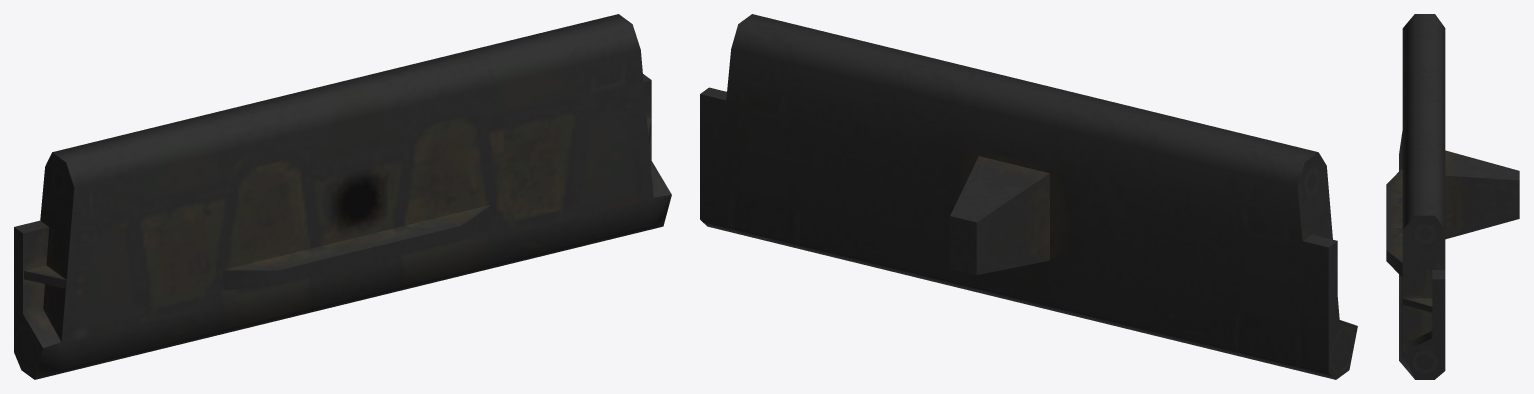
3 views of the same model, side by side, from view 1: azimuth 30°, elevation 25°; view 2: azimuth 150°, elevation 25°; view 3: azimuth 270°, elevation 25° (orthographic). The views are drawn at different scales.
Visible parts, largest first — view 1: set_0_group_0; view 2: set_0_group_0; view 3: set_0_group_0.
Boxes of the visible parts, bbox=[...] form: set_0_group_0: bbox=[14, 14, 671, 379]; set_0_group_0: bbox=[700, 14, 1357, 379]; set_0_group_0: bbox=[1386, 14, 1519, 379].
Size of the model in its own units: 0.5735 by 0.1832 by 0.1447.
1 material, 1 textured.
